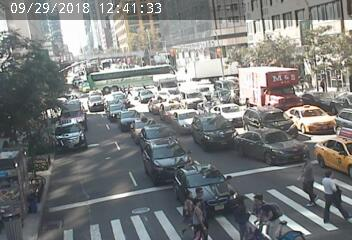car: (175, 165, 230, 203), (245, 69, 298, 106), (239, 137, 298, 164), (191, 118, 239, 150), (86, 67, 179, 83), (86, 70, 178, 82), (295, 104, 333, 132), (318, 136, 352, 167), (247, 105, 286, 130), (144, 145, 181, 168), (153, 73, 183, 98), (216, 105, 250, 125), (171, 110, 199, 131), (61, 104, 88, 123), (138, 127, 168, 142), (54, 127, 83, 140), (106, 98, 126, 116), (181, 89, 203, 105), (134, 86, 154, 99), (158, 99, 175, 114), (149, 97, 170, 109), (130, 119, 149, 132), (118, 109, 134, 123), (87, 96, 101, 107)
